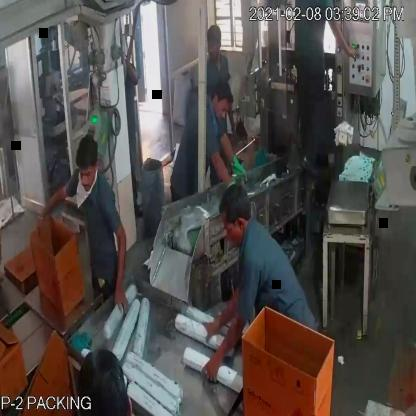no_glove: (207, 306, 249, 394), (108, 218, 132, 320), (33, 176, 71, 235), (204, 282, 241, 335)
